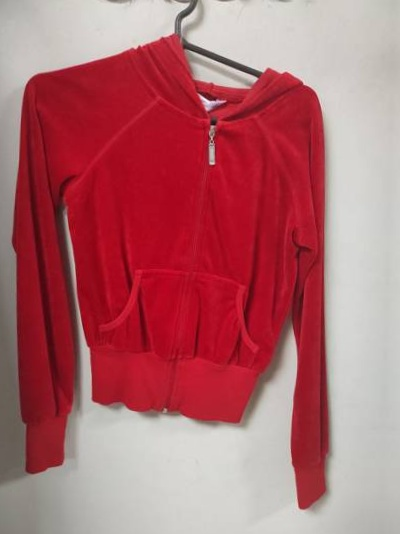Hoodie: (0, 31, 375, 513)
